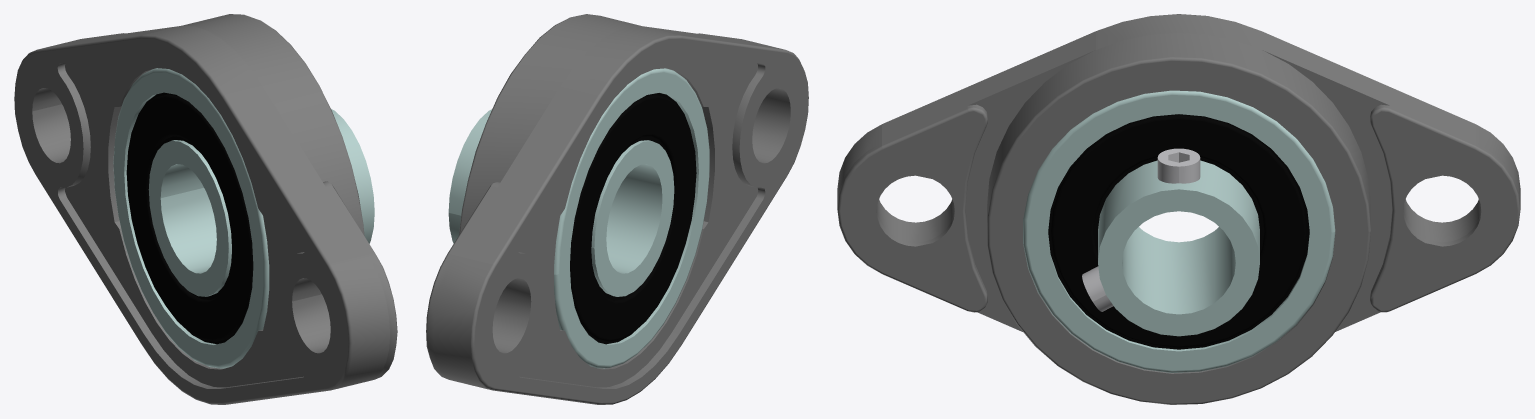
The model's file is fc-kfl08.glb.
The picture shows the model from 3 angles, left to right: view 1: azimuth 30°, elevation 25°; view 2: azimuth 150°, elevation 25°; view 3: azimuth 270°, elevation 25°; orthographic projection.
Visible parts, largest first — view 1: 0.16666666666666666_0.16666666666666666_0.16666666666666666_, 0.4166666666666667_0.5833333333333334_0.5833333333333334_0, 0_0_0_0; view 2: 0.16666666666666666_0.16666666666666666_0.16666666666666666_, 0.4166666666666667_0.5833333333333334_0.5833333333333334_0, 0_0_0_0; view 3: 0.16666666666666666_0.16666666666666666_0.16666666666666666_, 0.4166666666666667_0.5833333333333334_0.5833333333333334_0, 0_0_0_0, 0.5833333333333334_0.5833333333333334_0.5833333333333334_0.8.
Boxes of the visible parts, <box> form: 0.16666666666666666_0.16666666666666666_0.16666666666666666_: <box>14,14,397,404</box>; 0.4166666666666667_0.5833333333333334_0.5833333333333334_0: <box>113,68,374,368</box>; 0_0_0_0: <box>126,92,253,344</box>; 0.16666666666666666_0.16666666666666666_0.16666666666666666_: <box>426,14,808,404</box>; 0.4166666666666667_0.5833333333333334_0.5833333333333334_0: <box>448,68,709,368</box>; 0_0_0_0: <box>570,93,696,344</box>; 0.16666666666666666_0.16666666666666666_0.16666666666666666_: <box>837,14,1520,404</box>; 0.4166666666666667_0.5833333333333334_0.5833333333333334_0: <box>1023,90,1335,372</box>; 0_0_0_0: <box>1048,114,1309,349</box>; 0.5833333333333334_0.5833333333333334_0.5833333333333334_0.8: <box>1082,148,1200,311</box>.
Bounding box in the file's own units: 1.26 × 2.7 × 4.8.
